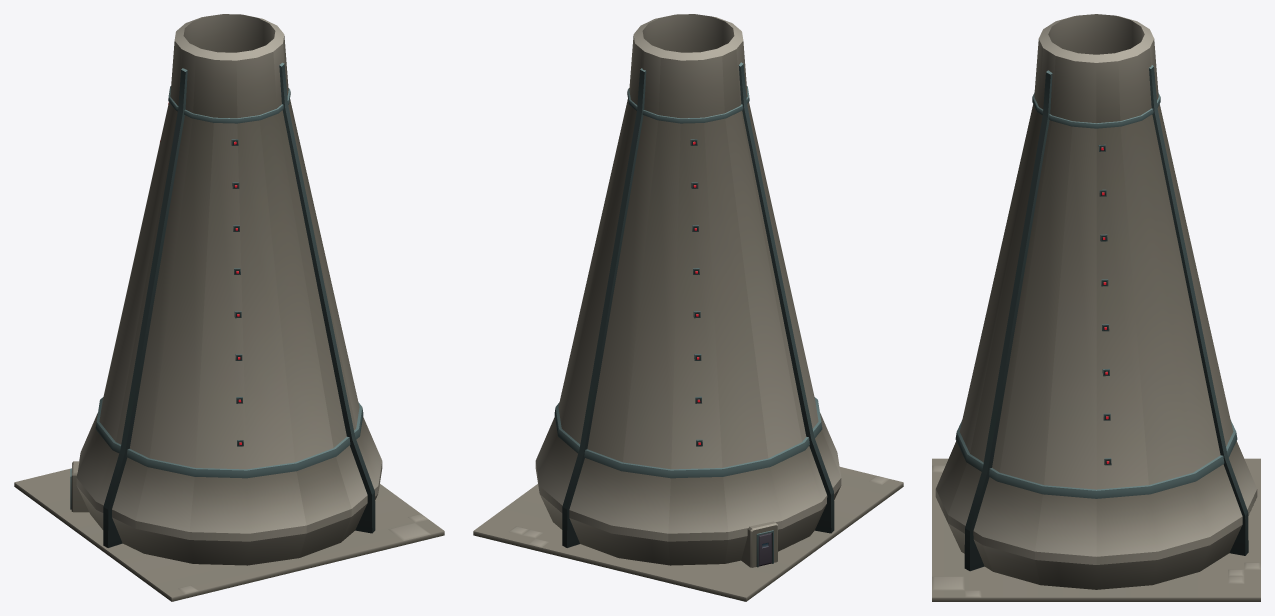
The model's file is Giant_Chimney_1A.fbx.
3 renders of one model, left to right at view 1: azimuth 30°, elevation 25°; view 2: azimuth 150°, elevation 25°; view 3: azimuth 270°, elevation 25°, orthographic. The views are drawn at different scales.
Visible parts, largest first — view 1: Giant_Chimney_1A; view 2: Giant_Chimney_1A; view 3: Giant_Chimney_1A.
Boxes of the visible parts, x1=… form: Giant_Chimney_1A: x1=14, y1=14, x2=444, y2=601; Giant_Chimney_1A: x1=473, y1=14, x2=903, y2=601; Giant_Chimney_1A: x1=932, y1=14, x2=1260, y2=601.
Size of the model in its own units: 2000 by 3344 by 2000.
